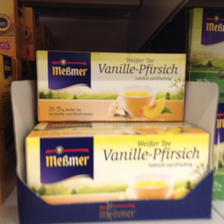tea: (23, 123, 211, 202), (34, 49, 187, 122)
